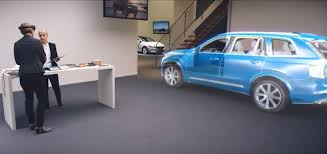hololens: (16, 23, 36, 31)
